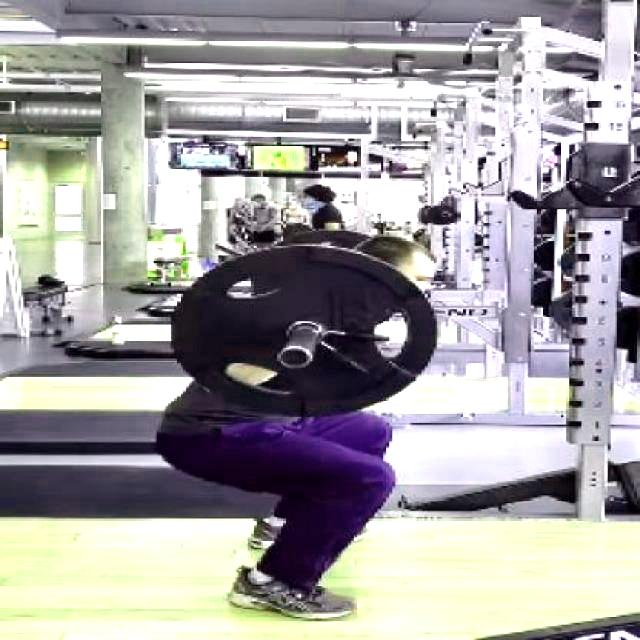barbell: (167, 237, 442, 420)
